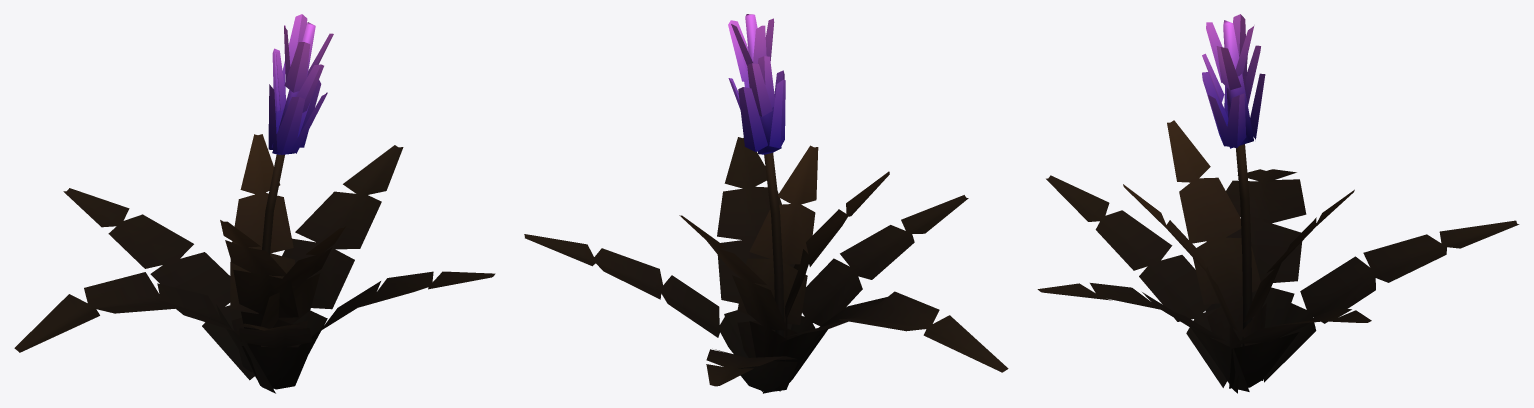
The model's file is mountain_flower_0.fbx.
The picture shows the model from 3 angles, left to right: view 1: azimuth 30°, elevation 25°; view 2: azimuth 150°, elevation 25°; view 3: azimuth 270°, elevation 25°; orthographic projection. The views are drawn at different scales.
Visible parts, largest first — view 1: Mountain Flower 0; view 2: Mountain Flower 0; view 3: Mountain Flower 0.
Boxes of the visible parts, left/top/right/bottom form: Mountain Flower 0: left=14, top=14, right=495, bottom=393; Mountain Flower 0: left=524, top=14, right=1008, bottom=393; Mountain Flower 0: left=1037, top=14, right=1519, bottom=393.
Bounding box in the file's own units: 196 × 156 × 181.
1 material, 1 textured.
